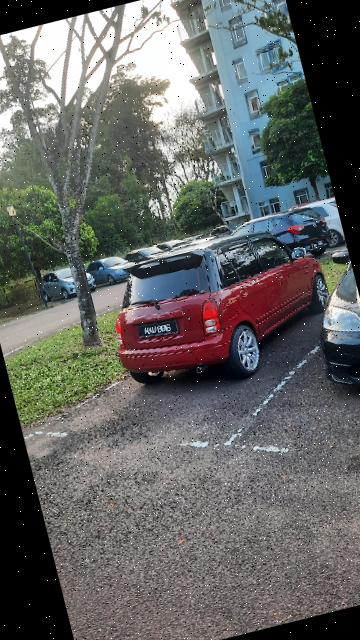License_Plate: (137, 316, 182, 345)
car: (96, 214, 353, 407)
